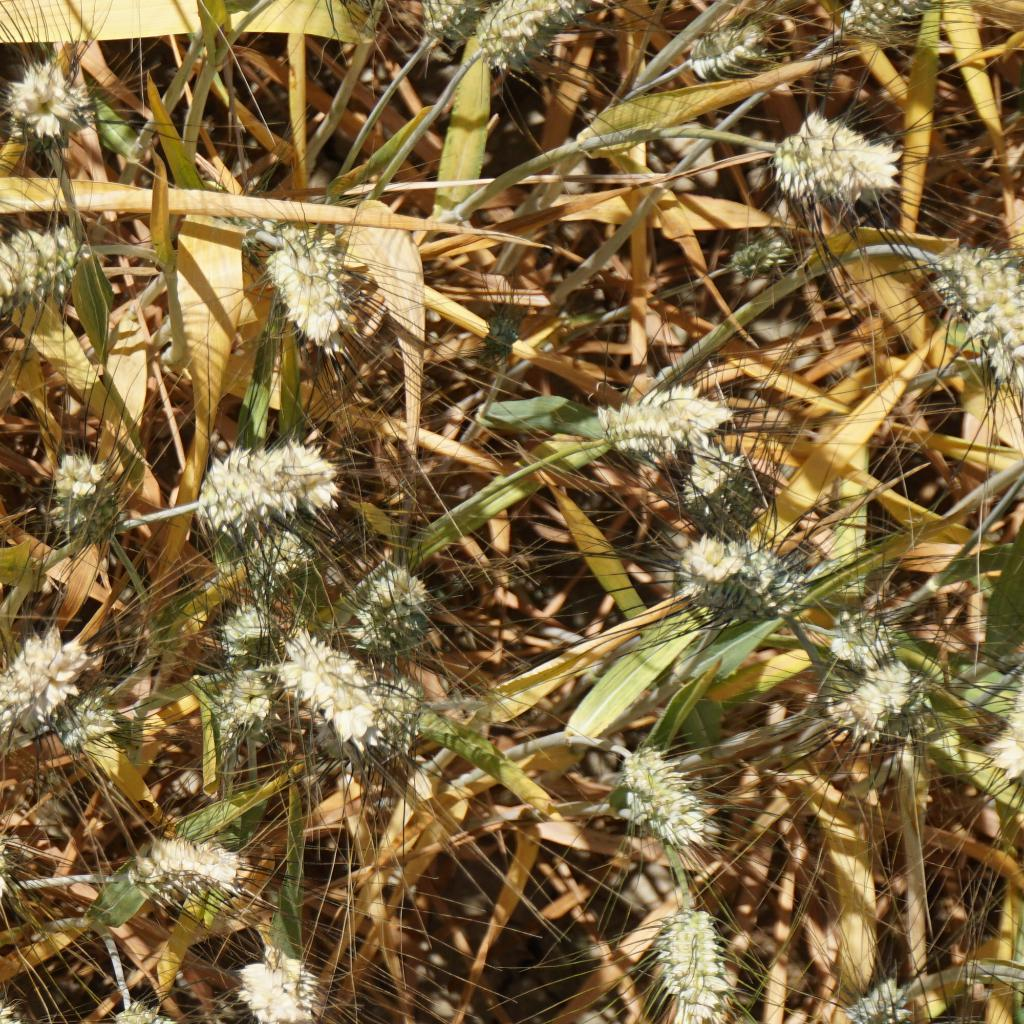0-0: (256, 216, 377, 376), (179, 427, 350, 539), (606, 744, 728, 870), (760, 108, 923, 198), (267, 624, 399, 734), (929, 232, 1024, 380), (0, 206, 107, 333), (594, 381, 736, 472), (43, 427, 137, 563), (0, 47, 114, 155), (653, 896, 736, 1024), (663, 529, 783, 614), (112, 819, 242, 896), (342, 563, 444, 653), (675, 435, 775, 518), (495, 0, 598, 76), (232, 943, 328, 1024), (238, 509, 324, 596), (817, 659, 915, 732), (716, 212, 809, 287), (0, 626, 72, 714), (679, 6, 777, 70), (200, 657, 279, 736), (470, 295, 541, 364), (846, 956, 917, 1024), (828, 604, 907, 663), (58, 687, 121, 746), (108, 990, 195, 1024), (420, 0, 476, 51), (218, 604, 269, 655), (0, 976, 33, 1024)
